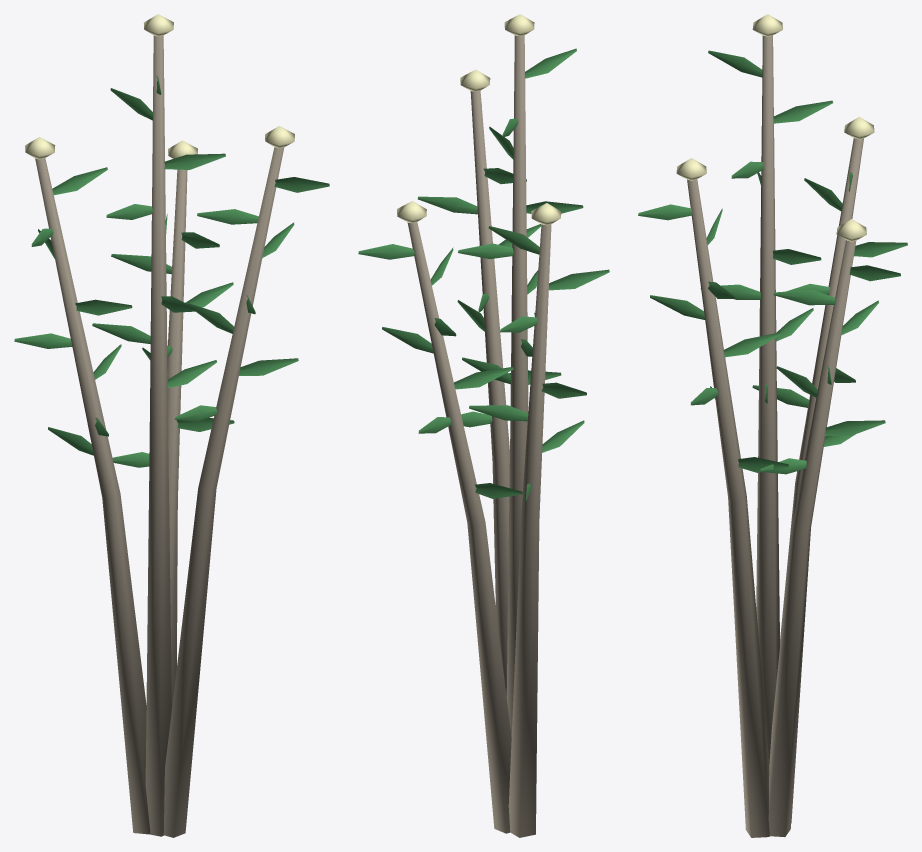
The model's file is shrub_bay_laurel.glb.
3 renders of one model, left to right at view 1: azimuth 30°, elevation 25°; view 2: azimuth 150°, elevation 25°; view 3: azimuth 270°, elevation 25°, orthographic.
Visible parts, largest first — view 1: Flora_Bay_Laurel; view 2: Flora_Bay_Laurel; view 3: Flora_Bay_Laurel.
Boxes of the visible parts, <box> form: Flora_Bay_Laurel: <box>14,14,329,837</box>; Flora_Bay_Laurel: <box>358,14,609,837</box>; Flora_Bay_Laurel: <box>638,14,907,837</box>.
Bounding box in the file's own units: 0.6891 × 2.36 × 0.7084.
